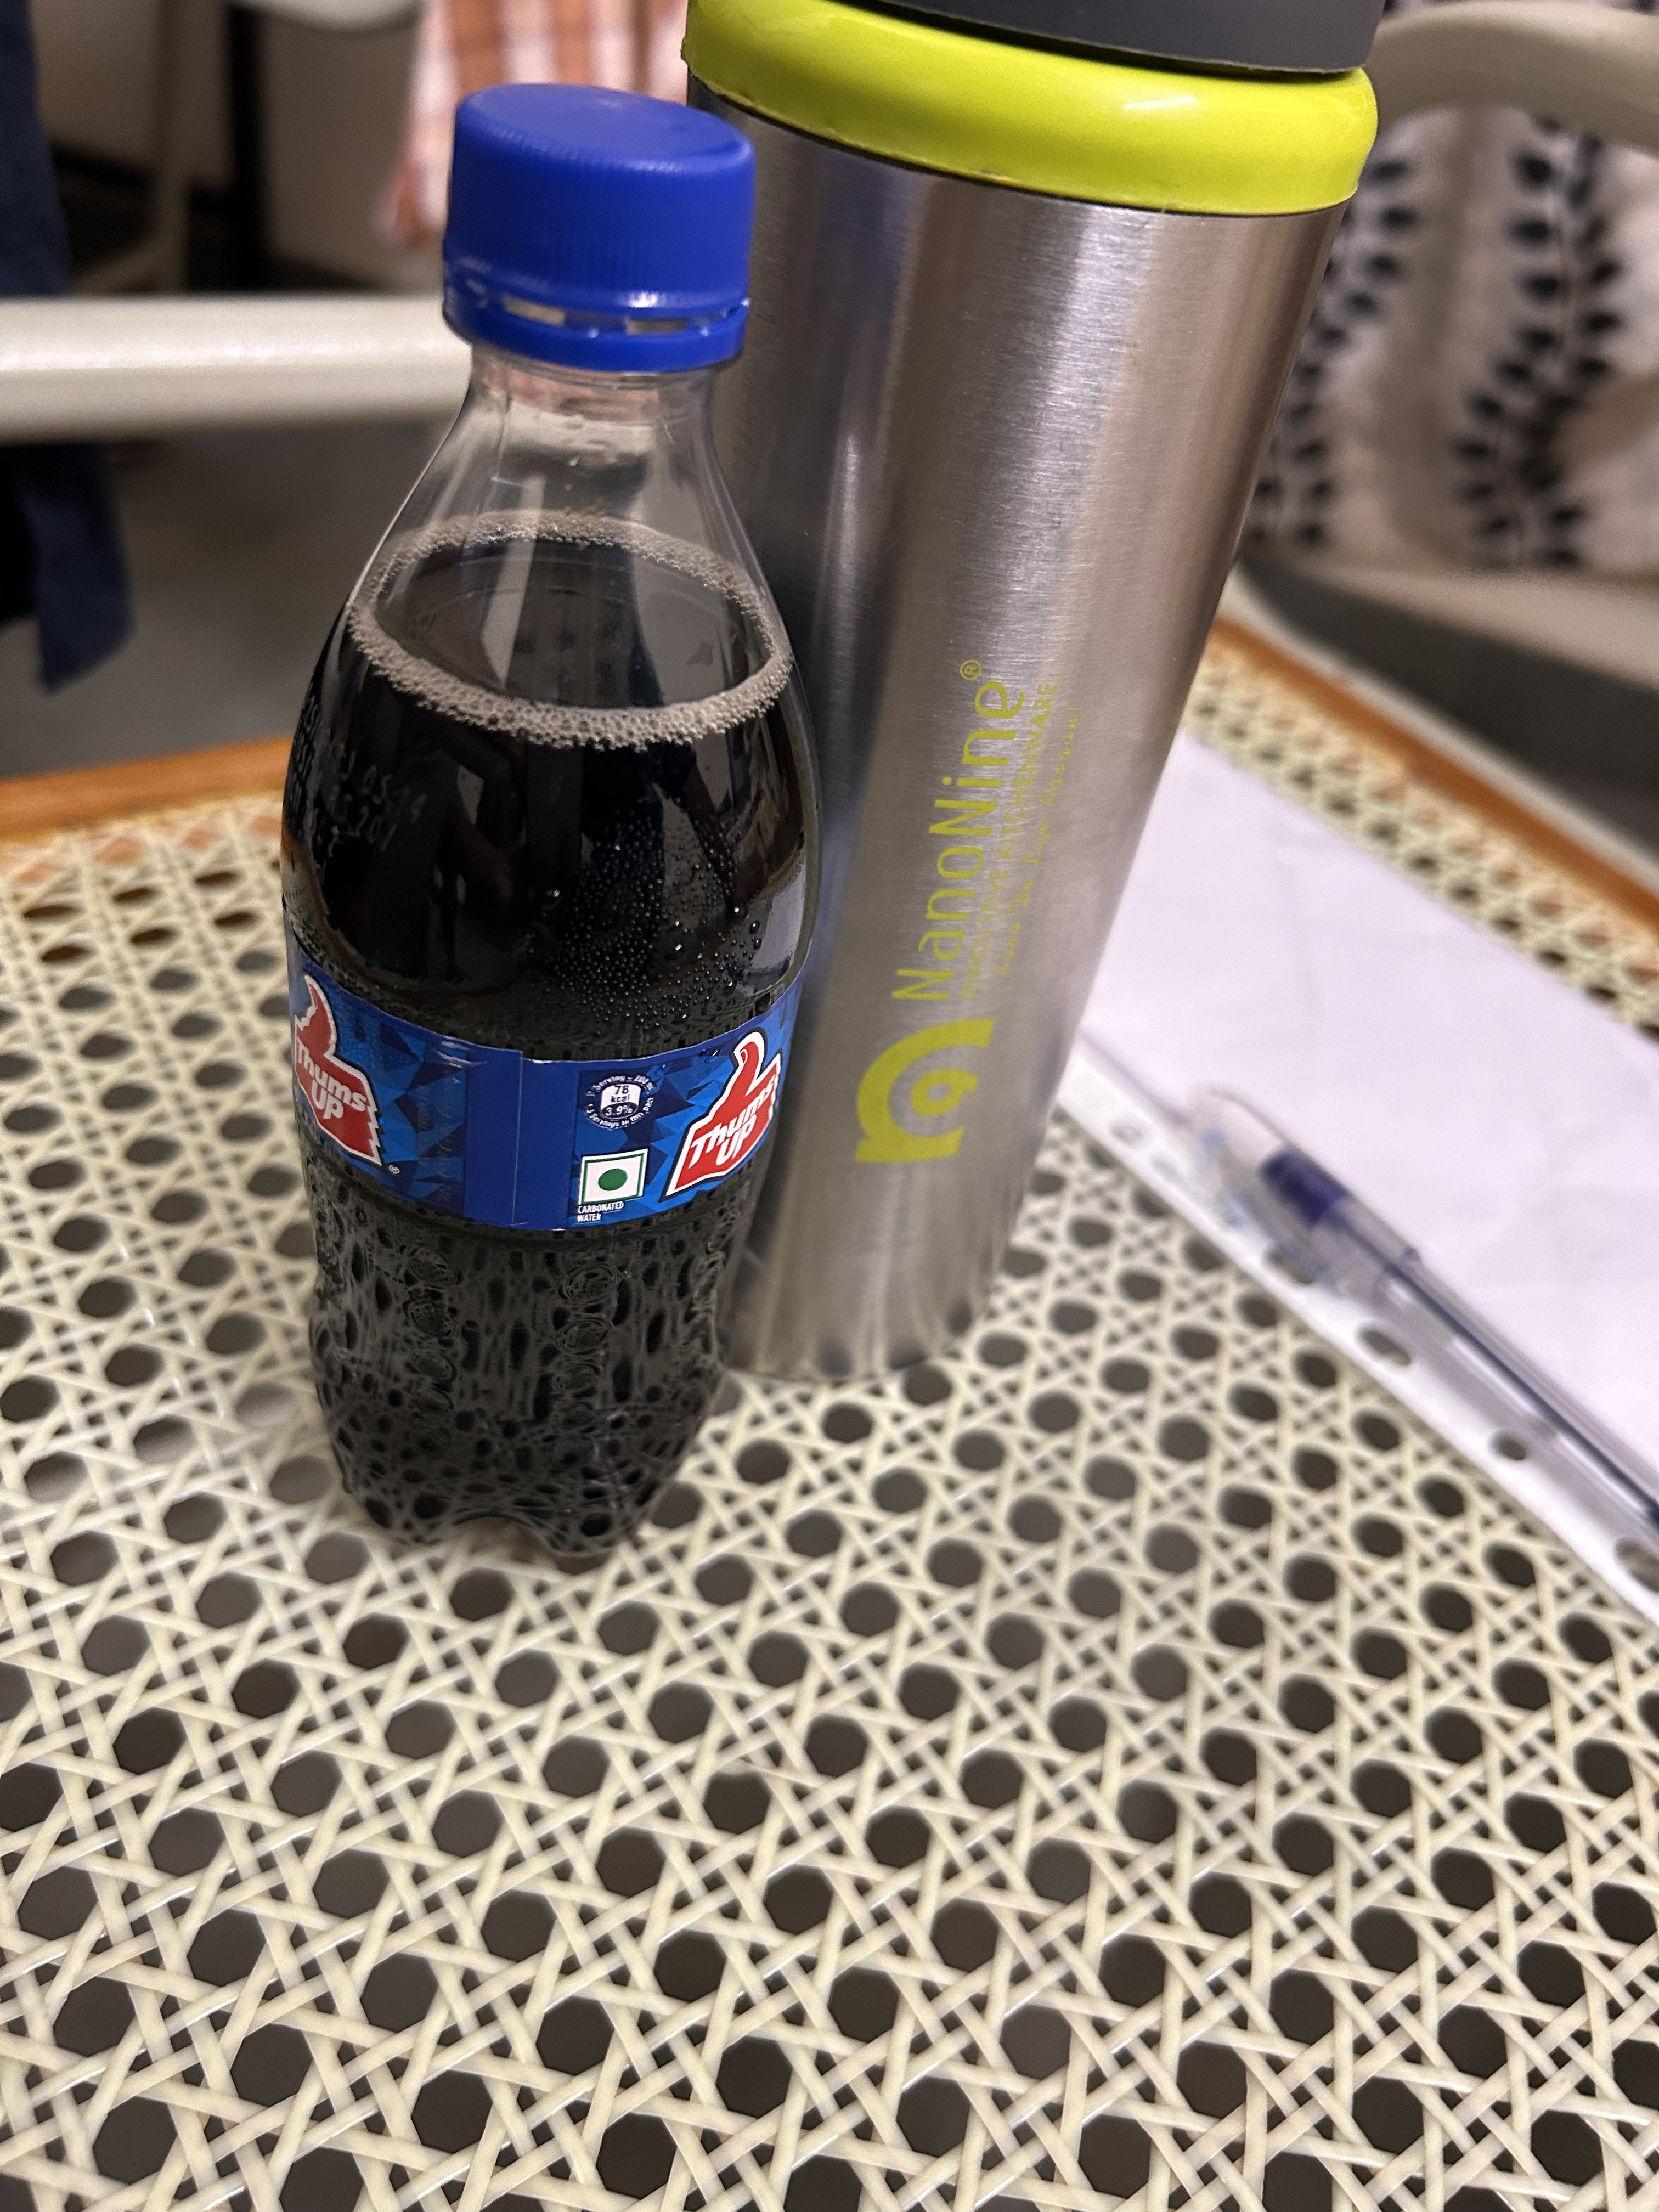unsealed: (415, 54, 777, 441)
